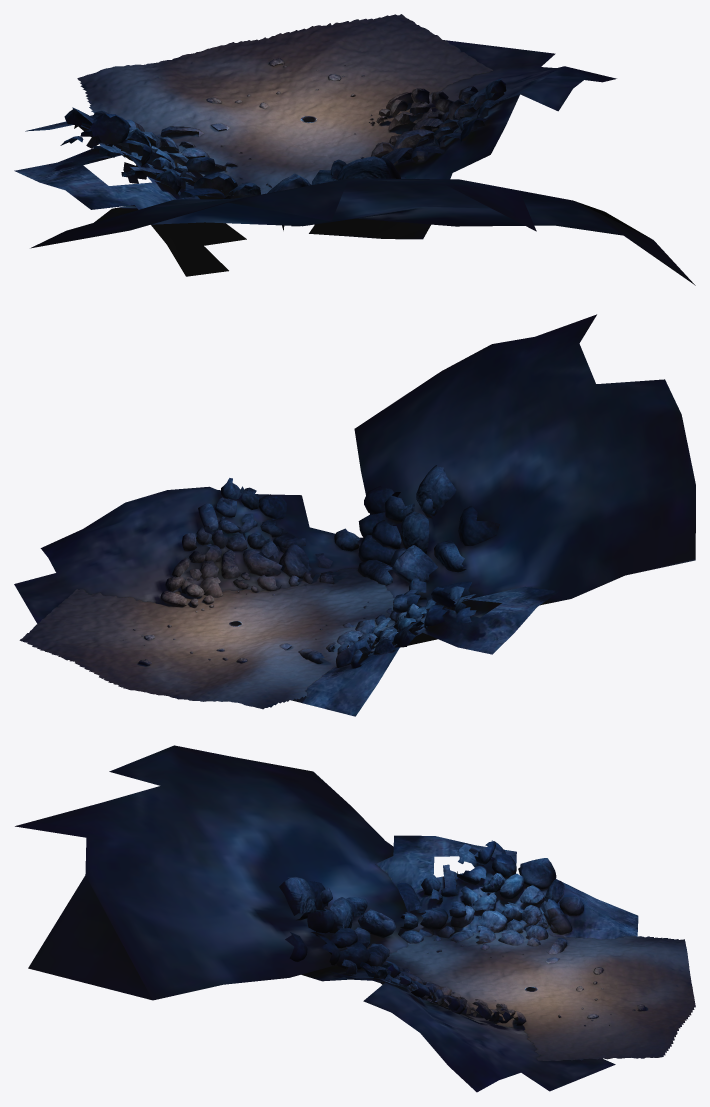
File: seafloor_no-drill.glb
The picture shows the model from 3 angles, top to bottom: view 1: azimuth 30°, elevation 25°; view 2: azimuth 150°, elevation 25°; view 3: azimuth 270°, elevation 25°; orthographic projection. The views are drawn at different scales.
Parts seen in each view (by area): view 1: sol_01, Landscapes, Rochers; view 2: Landscapes, sol_01, Rochers; view 3: Landscapes, sol_01, Rochers.
Part boxes in pixels (x1,y1,x2,y2): sol_01: [77, 14, 492, 199]; Landscapes: [14, 40, 695, 285]; Rochers: [60, 58, 506, 230]; Landscapes: [14, 314, 695, 716]; sol_01: [19, 568, 402, 709]; Rochers: [123, 465, 499, 668]; Landscapes: [15, 745, 638, 1092]; sol_01: [362, 929, 695, 1060]; Rochers: [279, 840, 645, 1026].
Bounding box in the file's own units: 6.19 × 1.6 × 6.82.
2 materials, 2 textured.
